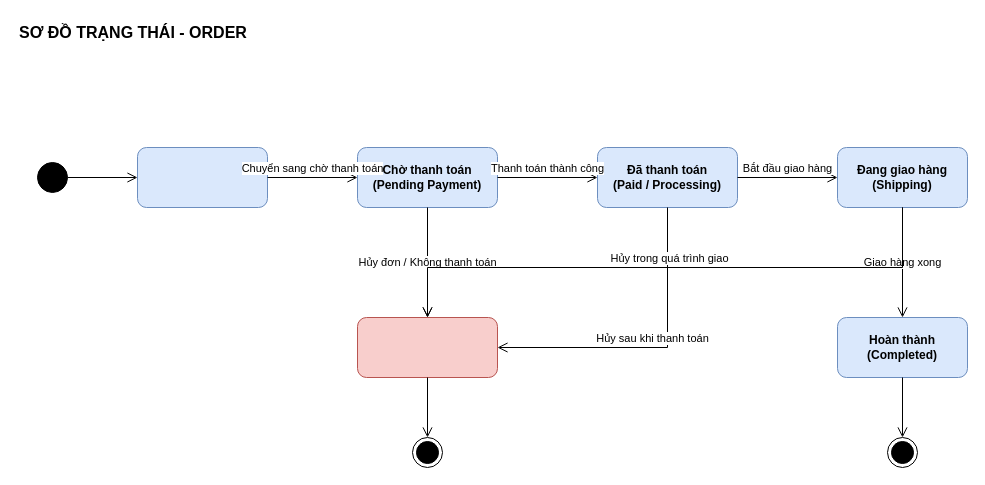
The diagram is 985 pixels wide and 485 high, and some of its shapes have lost their labels. The centre of each missing label's shape, as x and y in pixels:
Mới khởi tạo (Created): pixel 202 177
Đã hủy (Cancelled): pixel 427 347
